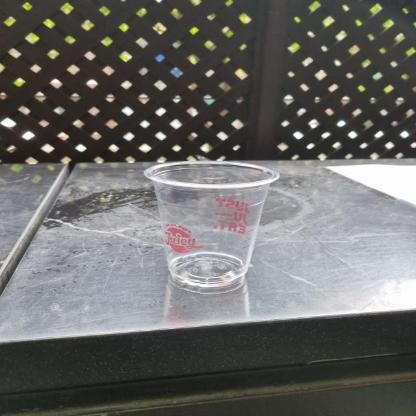Plastic Cup: (142, 160, 282, 290)
